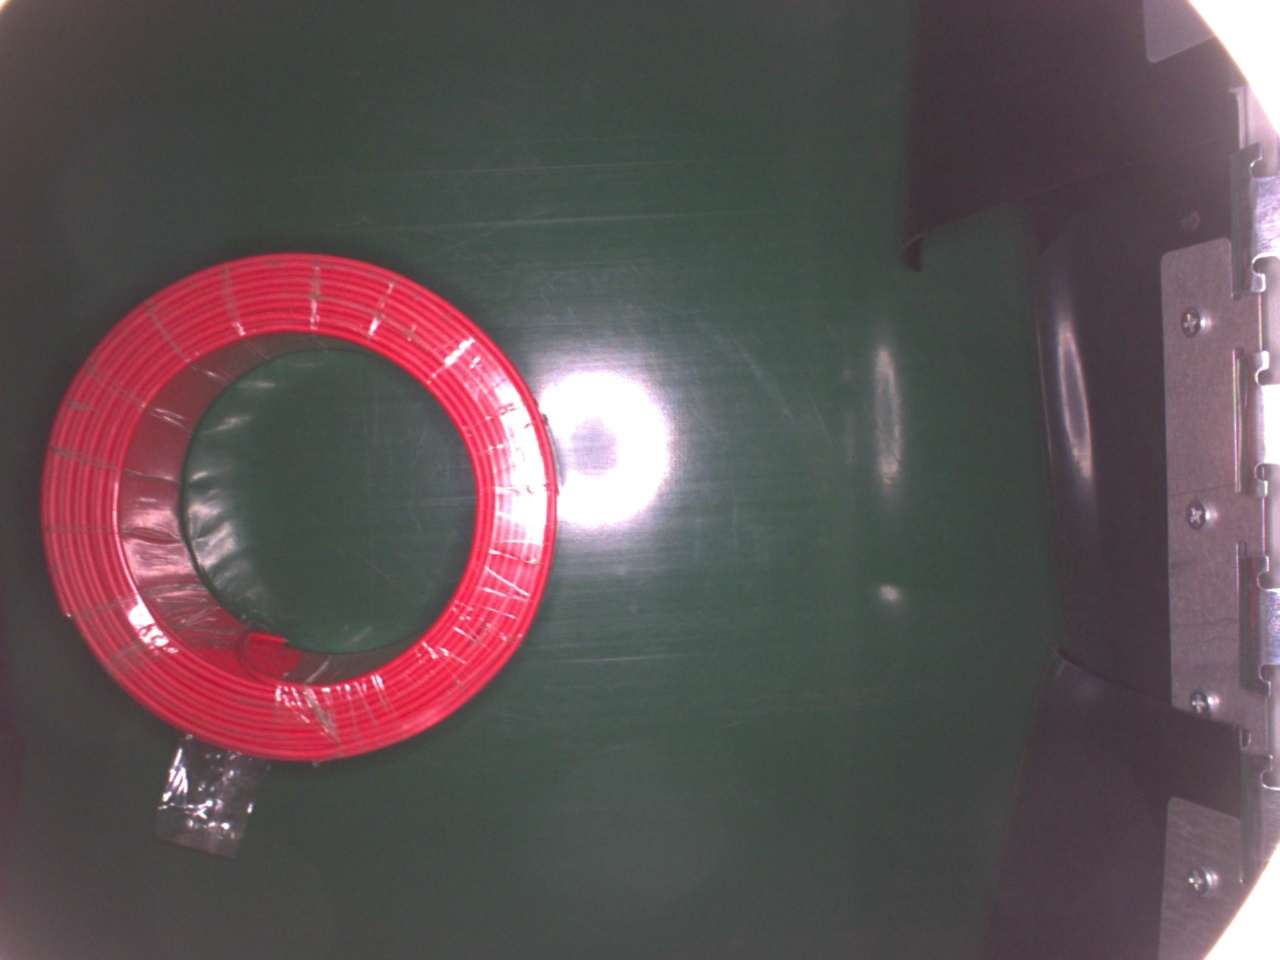red: (38, 248, 562, 764)
